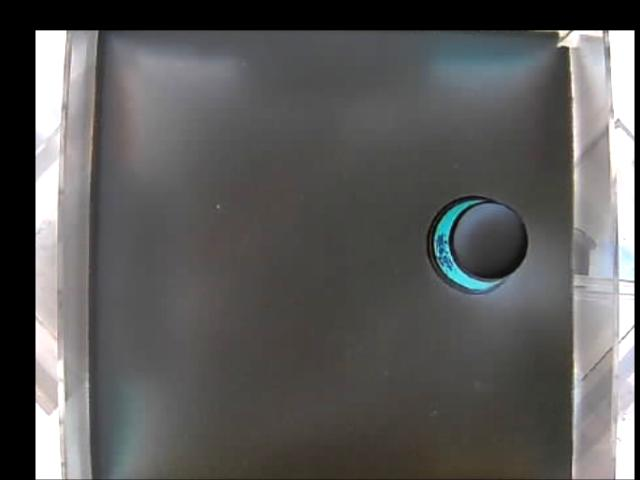Cup: (428, 191, 530, 296)
